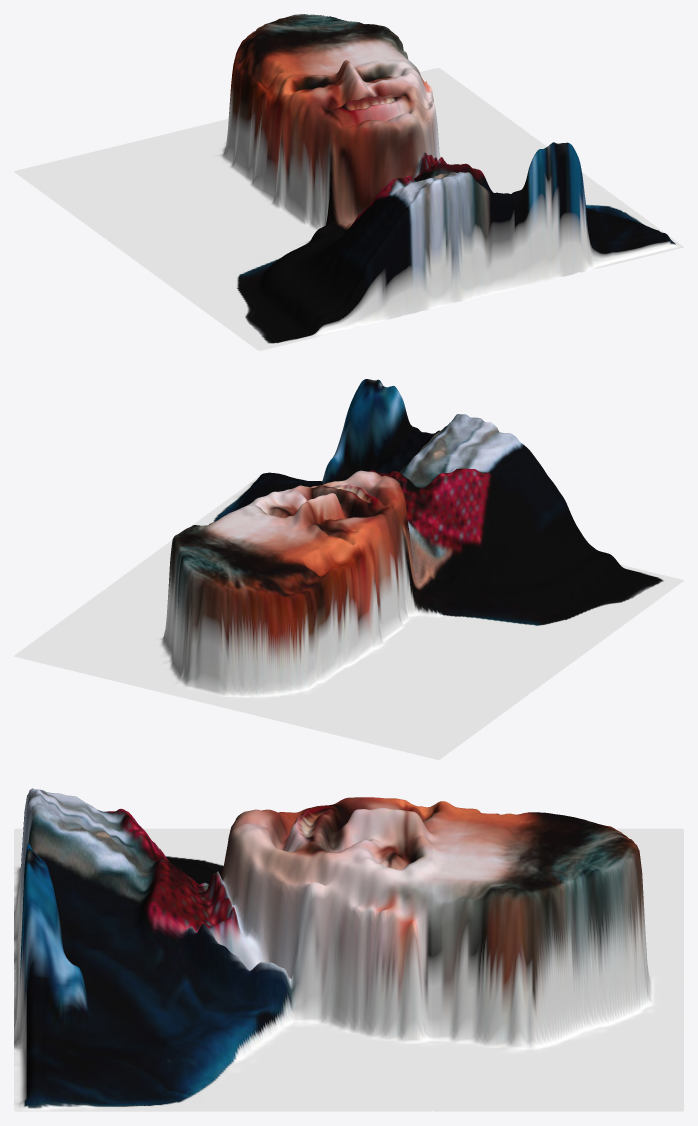
File: self_portrait_2.gltf
3 views of the same model, one above another, from view 1: azimuth 30°, elevation 25°; view 2: azimuth 150°, elevation 25°; view 3: azimuth 270°, elevation 25° (orthographic). The views are drawn at different scales.
Parts seen in each view (by area): view 1: head_bottom, head_top; view 2: head_bottom, head_top; view 3: head_bottom, head_top.
Boxes of the visible parts, x1,y1,x2,y2 form: head_bottom: (106, 58, 683, 350); head_top: (14, 14, 530, 238); head_bottom: (106, 379, 683, 692); head_top: (14, 512, 529, 759); head_bottom: (14, 788, 432, 1111); head_top: (432, 801, 683, 1111).
Size of the model in its own units: 0.6096 by 0.1799 by 0.6096.
Materials: 1 (1 with a texture image).
